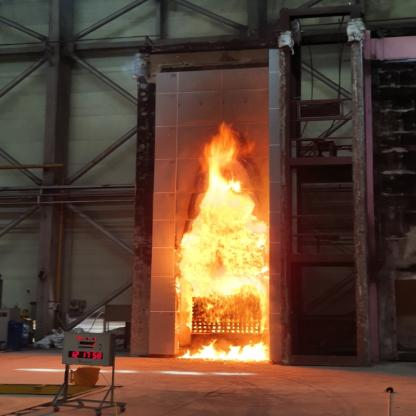fire: (171, 122, 285, 366)
